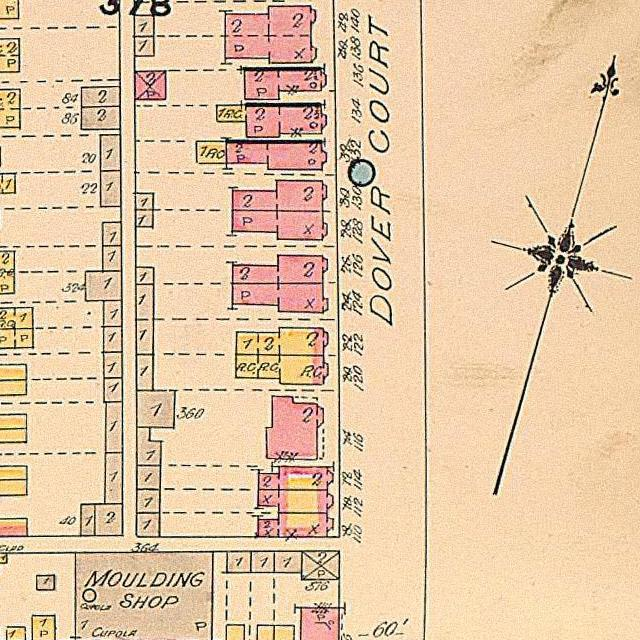building-footprints: (76, 552, 213, 640), (224, 6, 316, 63), (266, 397, 323, 460), (217, 105, 326, 137), (233, 180, 327, 211), (226, 141, 326, 170), (236, 354, 328, 385), (232, 210, 327, 240), (232, 255, 328, 284), (232, 283, 328, 312), (236, 328, 328, 355), (245, 69, 326, 99), (257, 513, 333, 537), (257, 490, 333, 513), (258, 467, 333, 490), (137, 390, 175, 428), (136, 284, 154, 354), (301, 608, 339, 640), (302, 551, 339, 579), (85, 272, 122, 300), (136, 427, 161, 465), (135, 71, 166, 99), (105, 453, 122, 504), (106, 402, 123, 452), (95, 504, 122, 535), (82, 107, 120, 129), (0, 89, 20, 128), (81, 87, 120, 106), (0, 307, 33, 329), (101, 171, 121, 207), (101, 134, 121, 170), (196, 142, 226, 164), (0, 329, 33, 348), (0, 39, 19, 72), (274, 551, 302, 573), (0, 251, 14, 294), (137, 466, 161, 490), (137, 354, 153, 390), (137, 489, 160, 513), (137, 514, 160, 537), (227, 551, 251, 573), (251, 551, 275, 572), (0, 518, 27, 536), (103, 327, 122, 352), (103, 246, 122, 271), (104, 352, 122, 378), (104, 378, 123, 402), (102, 222, 121, 246), (104, 301, 122, 326), (81, 504, 95, 536), (0, 480, 27, 496), (134, 15, 154, 36), (0, 365, 26, 381), (0, 414, 27, 429), (0, 380, 27, 395), (0, 428, 26, 443), (135, 36, 154, 56), (0, 466, 27, 480), (136, 267, 154, 284), (135, 210, 153, 227), (136, 193, 153, 210), (6, 627, 25, 640), (37, 576, 54, 590), (0, 553, 7, 563)
